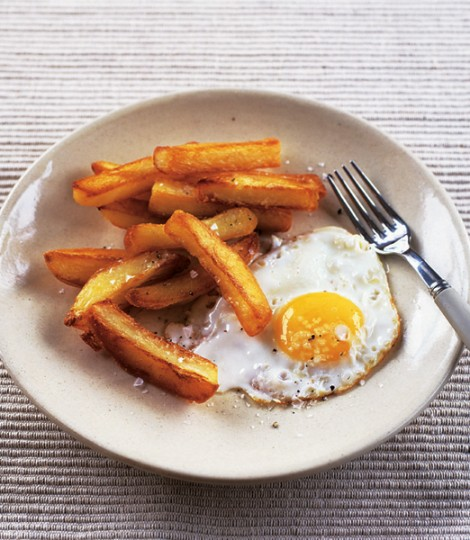fried egg: (204, 241, 406, 390)
